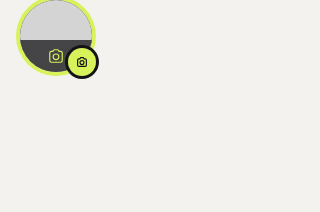
Test: AvatarEditor › offers removal only when there is a photo
This screenshot has width=320, height=212.
Later steps or results of the test are not shown.
Click the button named "Photo options": (82,62) [68,48,96,76]
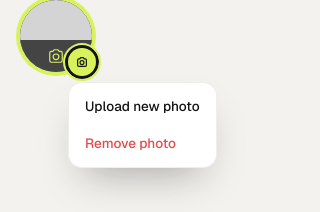
Check: the menu item "Upload new photo" is shown, box [74,88,211,125]
